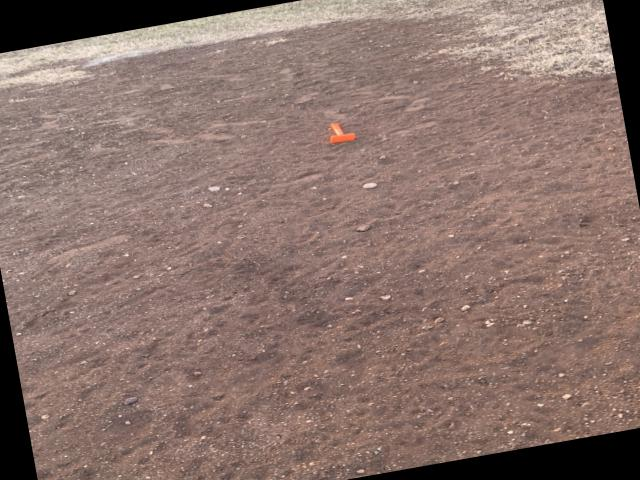hammer: (324, 119, 354, 145)
